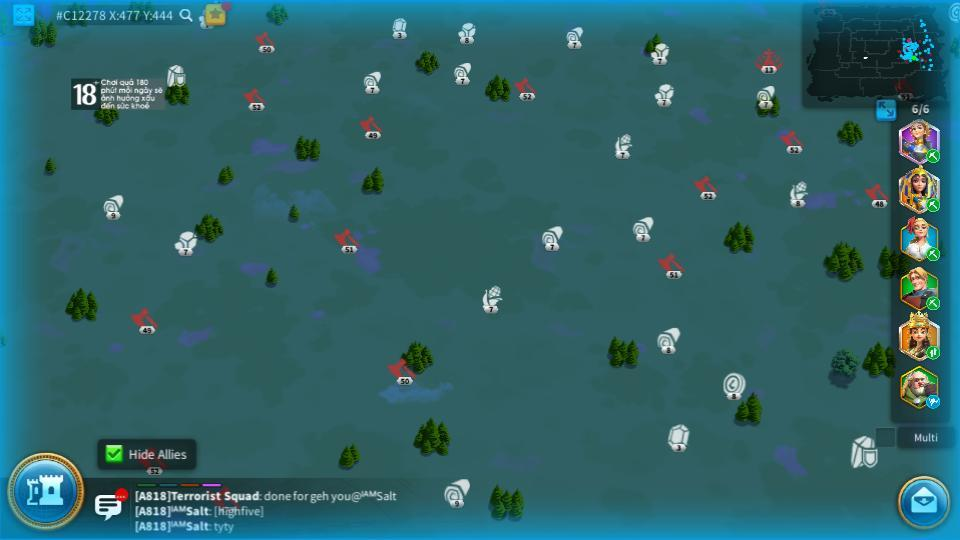gem-z-out: (666, 425, 690, 450), (390, 18, 409, 37)
march_farming: (924, 197, 939, 212), (925, 345, 941, 359), (925, 297, 941, 308)
march_idle: (925, 396, 942, 408)
march_marching: (925, 149, 941, 162)
